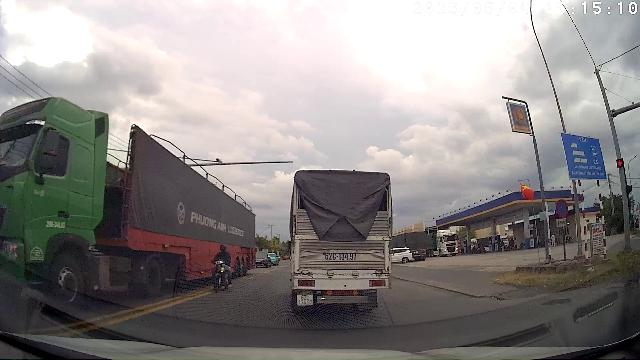130-cam-dung-va-do-xe: (555, 199, 569, 218)
